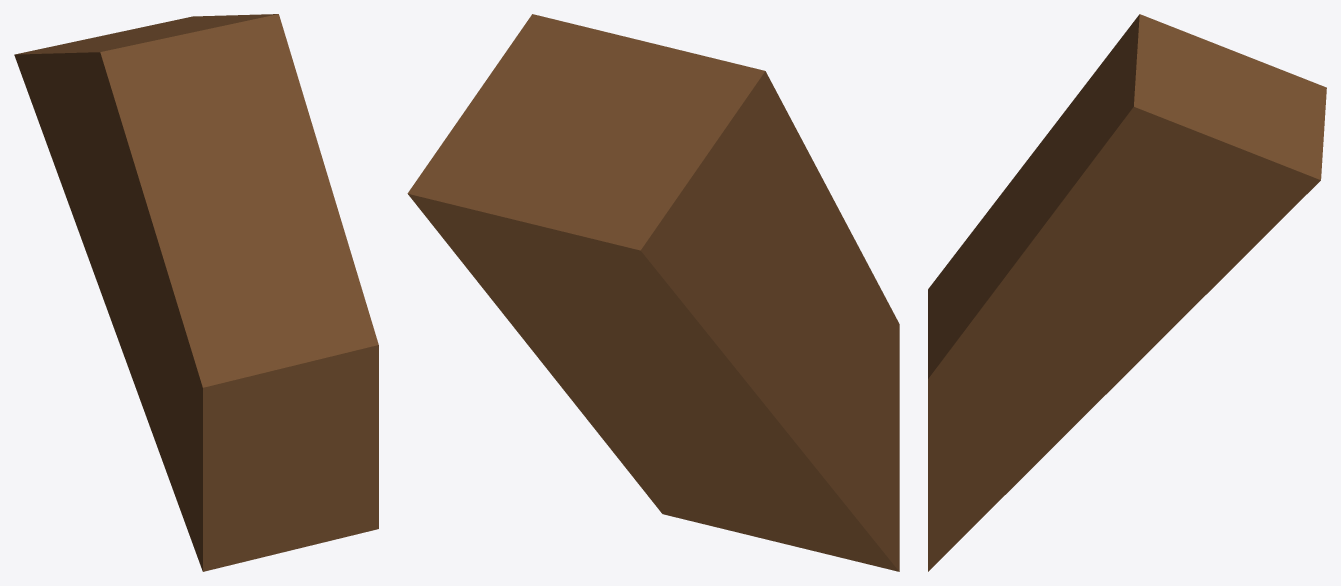
Rendered from Torch.fbx.
3 renders of one model, left to right at view 1: azimuth 30°, elevation 25°; view 2: azimuth 150°, elevation 25°; view 3: azimuth 270°, elevation 25°, orthographic. The views are drawn at different scales.
Parts seen in each view (by area): view 1: Cube; view 2: Cube; view 3: Cube.
Part boxes in pixels (left/top/right/bottom): Cube: left=14, top=14, right=378, bottom=571; Cube: left=407, top=14, right=899, bottom=571; Cube: left=928, top=14, right=1326, bottom=571.
Size of the model in its own units: 55.76 by 133 by 103.
